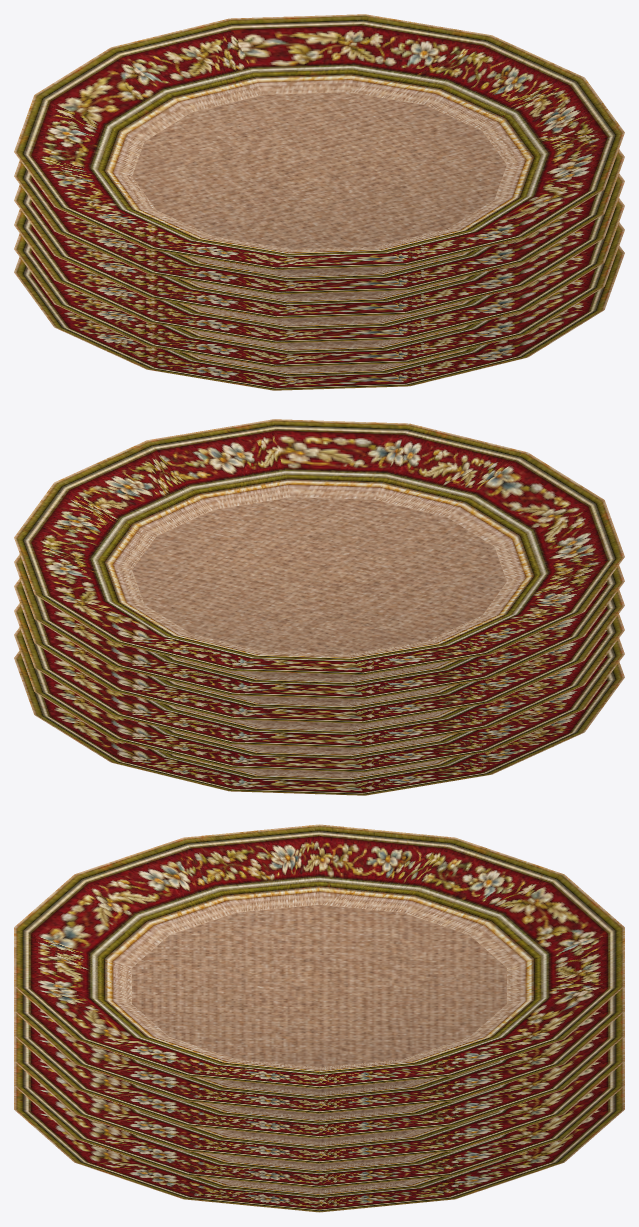
Rendered from mm9_deco_platestack1.glb.
3 views of the same model, one above another, from view 1: azimuth 30°, elevation 25°; view 2: azimuth 150°, elevation 25°; view 3: azimuth 270°, elevation 25° (orthographic). The views are drawn at different scales.
Parts seen in each view (by area): view 1: Platestack1; view 2: Platestack1; view 3: Platestack1.
Boxes of the visible parts, box(x1,y1,x2,y2) form: Platestack1: box(14, 14, 624, 390); Platestack1: box(14, 419, 624, 795); Platestack1: box(14, 824, 624, 1212).
Bounding box in the file's own units: 0.5001 × 0.1364 × 0.4875.
Materials: 1 (1 with a texture image).
